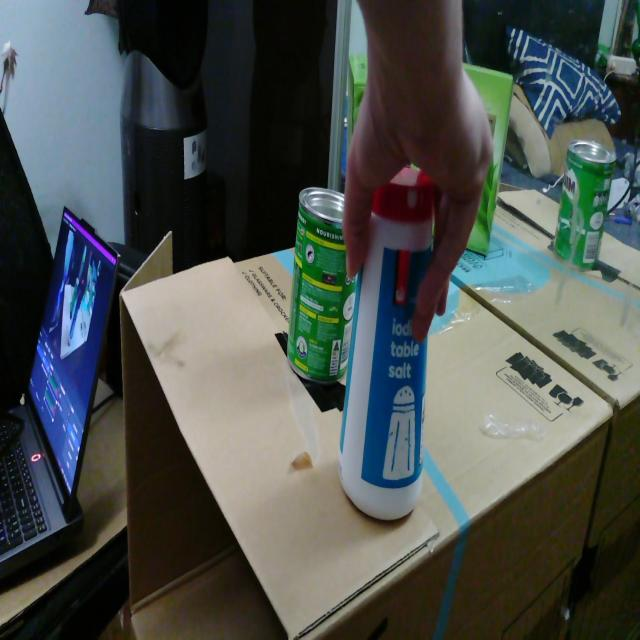nestle_milo_tin: (287, 187, 358, 384)
twinings_greentea_box: (347, 55, 367, 152)
woolworths_salt_bottle: (339, 167, 434, 519)
